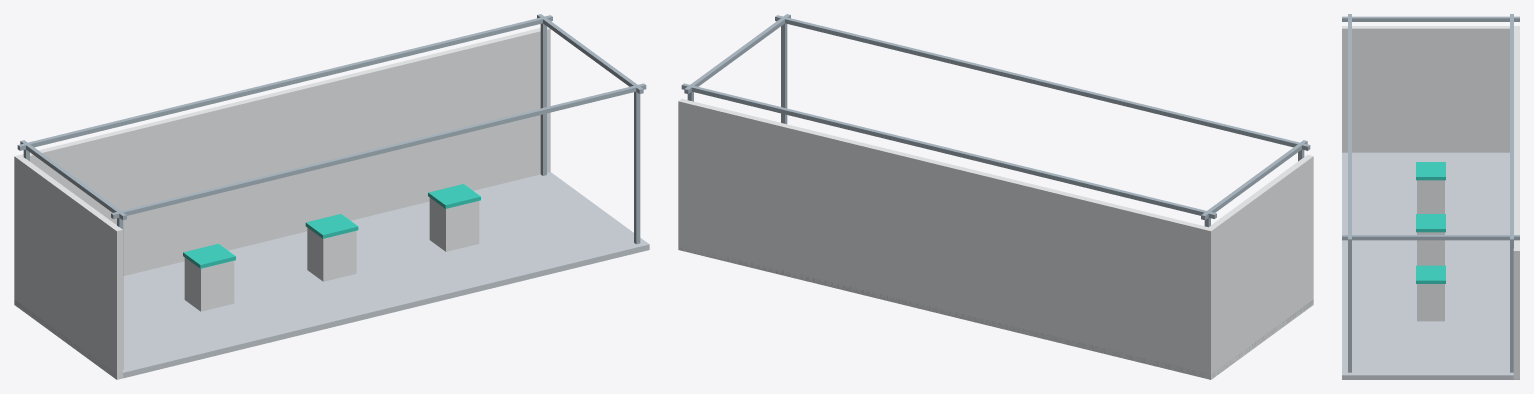
The picture shows the model from 3 angles, left to right: view 1: azimuth 30°, elevation 25°; view 2: azimuth 150°, elevation 25°; view 3: azimuth 270°, elevation 25°; orthographic projection. The views are drawn at different scales.
Parts seen in each view (by area): view 1: Exhibition Booth Concept; view 2: Exhibition Booth Concept; view 3: Exhibition Booth Concept.
Part boxes in pixels (bbox=[...]): Exhibition Booth Concept: bbox=[14, 14, 649, 379]; Exhibition Booth Concept: bbox=[678, 14, 1313, 379]; Exhibition Booth Concept: bbox=[1342, 14, 1519, 379].
Bounding box in the file's own units: 12 × 3.49 × 4.
